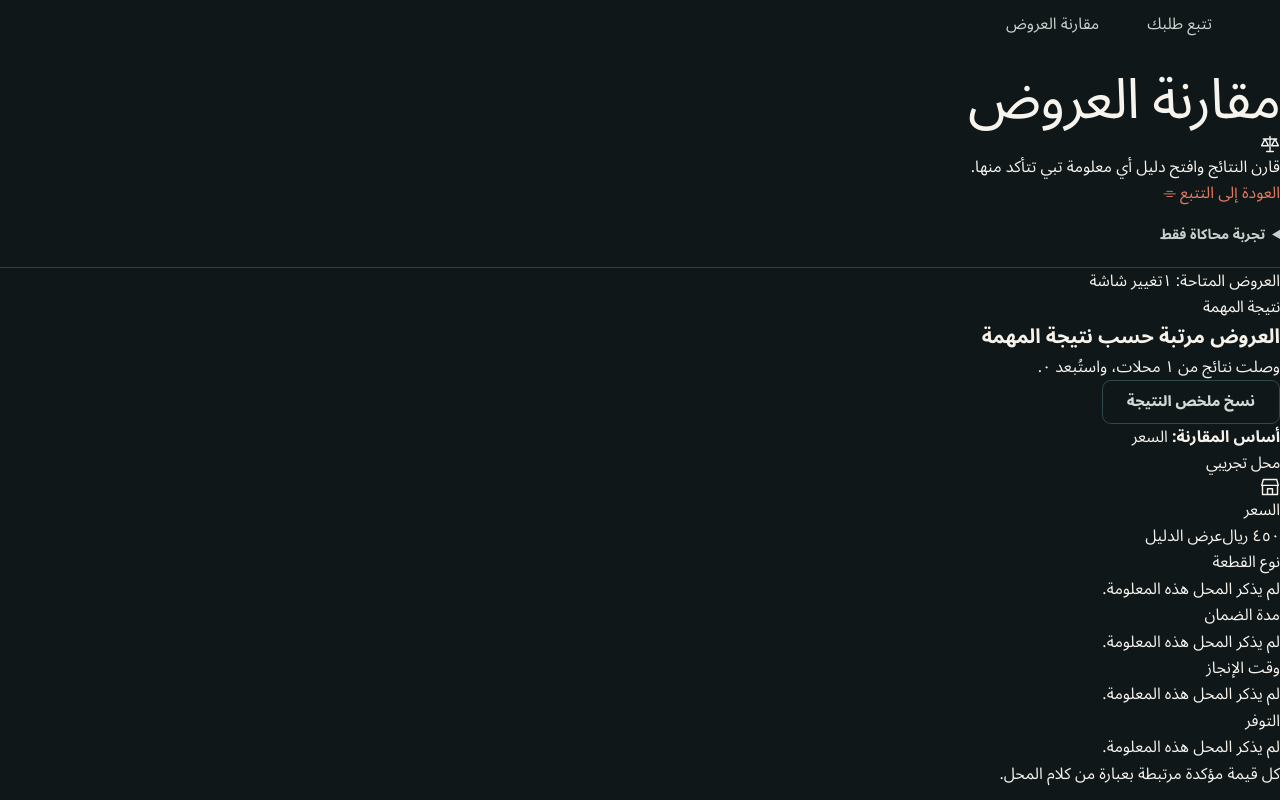
Test case: Reference task pages › only renders ranking entries backed by returned offers and opens verified transcript evidence
This screenshot has width=1280, height=800.
What coordinates should you click on to do the following:
click the button with aria-label "عرض دليل السعر من محل تجريبي"
I would click on:
 (1184, 536)
Its box is [1145,523,1222,550].
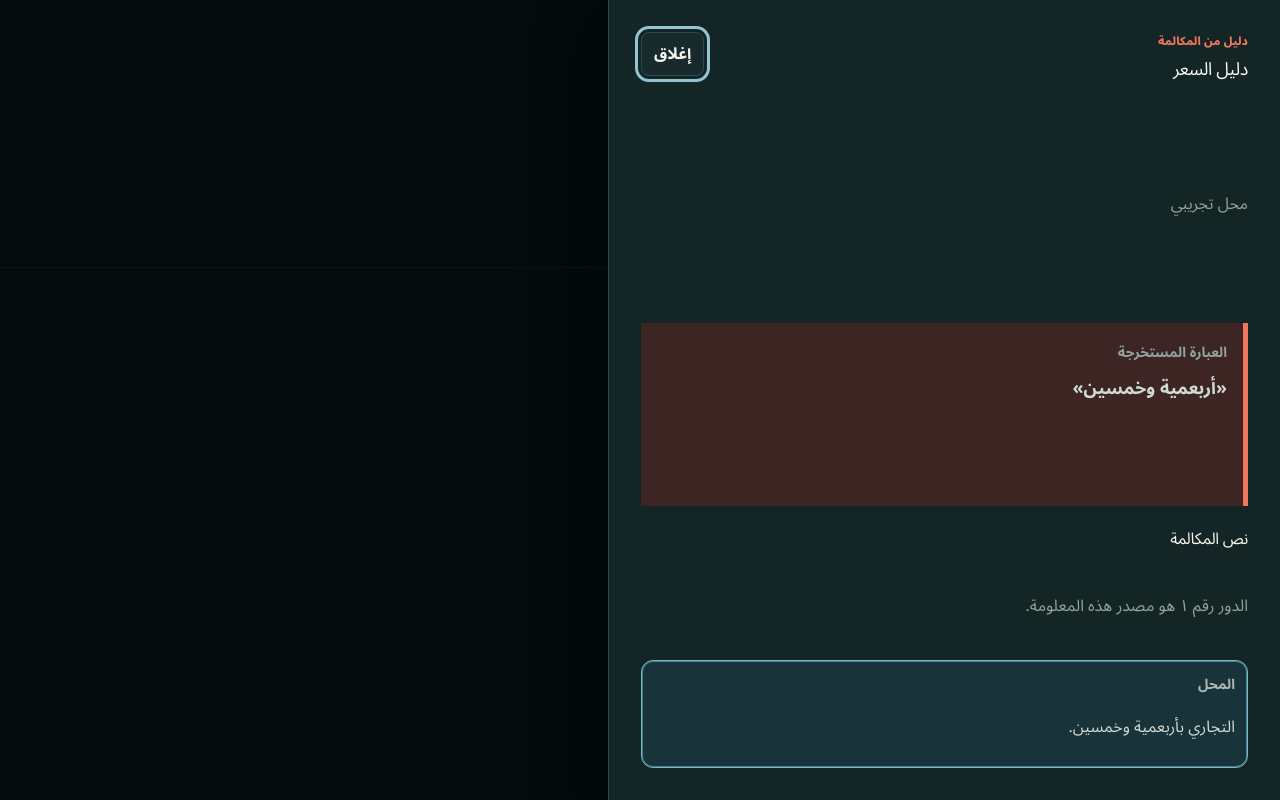
Check: the dialog "دليل السعر" is shown, box [608,0,1279,799]
Check: the text "التجاري بأربعمية وخمسين." is shown, box [1068,710,1235,744]
